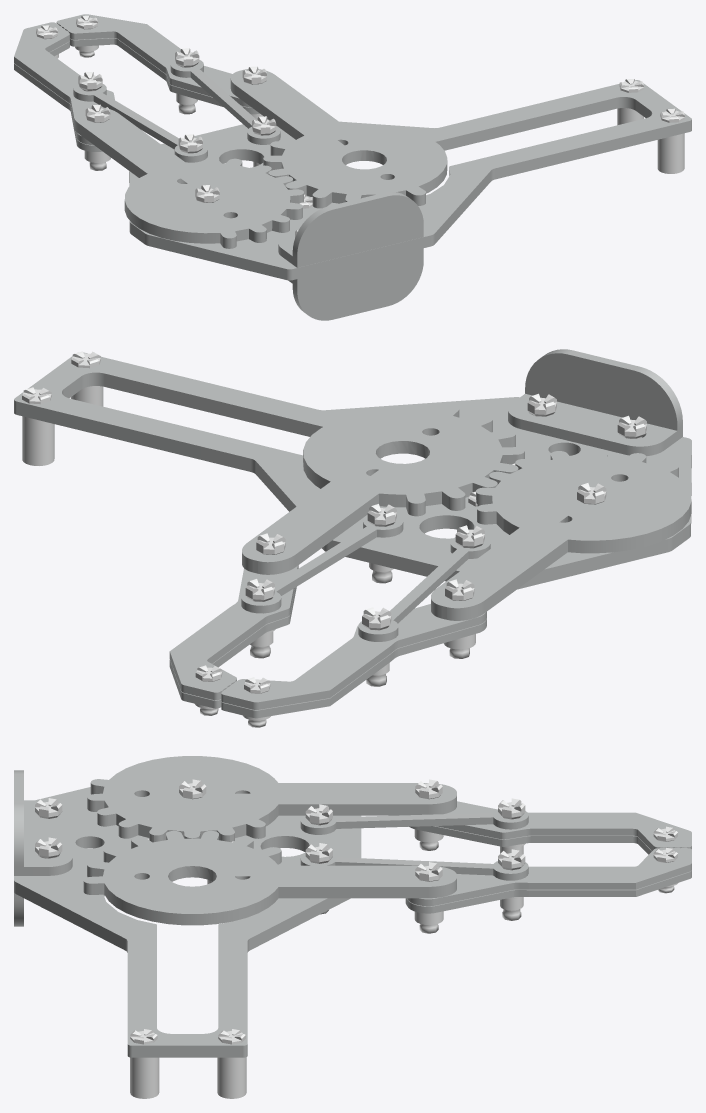
3 views of the same model, one above another, from view 1: azimuth 30°, elevation 25°; view 2: azimuth 150°, elevation 25°; view 3: azimuth 270°, elevation 25° (orthographic). The views are drawn at different scales.
Parts seen in each view (by area): view 1: pCube79, polySurface57, polySurface31, pCube96, pCube99, polySurface59, polySurface63, pPipe5, pPipe4, polySurface62, pPipe23, polySurface64 (+2 smaller); view 2: pCube79, polySurface31, polySurface57, pCube96, polySurface63, polySurface59, pPipe4, pPipe5, polySurface64, pPipe24, polySurface62, pCylinder34 (+3 smaller); view 3: pCube79, polySurface31, polySurface57, polySurface59, polySurface63, pCube96, pPipe5, polySurface62, pPipe4, polySurface64, pPipe23, pPipe24 (+3 smaller).
Part boxes in pixels (left/top/right/bottom): pCube79: left=129, top=80, right=691, bottom=280; polySurface57: left=74, top=107, right=303, bottom=248; polySurface31: left=230, top=69, right=447, bottom=208; pCube96: left=278, top=192, right=423, bottom=267; pCube99: left=288, top=248, right=423, bottom=320; polySurface59: left=56, top=14, right=250, bottom=107; polySurface63: left=14, top=22, right=114, bottom=145; pPipe5: left=73, top=83, right=207, bottom=162; pPipe4: left=170, top=60, right=280, bottom=144; polySurface62: left=70, top=38, right=259, bottom=114; pPipe23: left=657, top=133, right=684, bottom=173; polySurface64: left=14, top=41, right=102, bottom=151; pCube79: left=14, top=352, right=691, bottom=589; polySurface31: left=242, top=405, right=524, bottom=574; polySurface57: left=431, top=449, right=691, bottom=620; pCube96: left=508, top=349, right=682, bottom=456; polySurface63: left=221, top=604, right=486, bottom=709; polySurface59: left=169, top=565, right=298, bottom=700; pPipe4: left=241, top=515, right=403, bottom=613; pPipe5: left=358, top=537, right=490, bottom=641; polySurface64: left=221, top=618, right=486, bottom=718; pPipe24: left=22, top=416, right=54, bottom=465; polySurface62: left=169, top=587, right=296, bottom=708; pCylinder34: left=245, top=579, right=274, bottom=658; pCube79: left=14, top=787, right=361, bottom=1057; polySurface31: left=83, top=831, right=456, bottom=925; polySurface57: left=87, top=756, right=456, bottom=842; polySurface59: left=407, top=848, right=691, bottom=906; polySurface63: left=436, top=801, right=691, bottom=850; pCube96: left=14, top=770, right=72, bottom=875; pPipe5: left=300, top=810, right=528, bottom=834; polySurface62: left=405, top=870, right=691, bottom=913; pPipe4: left=300, top=853, right=528, bottom=880; polySurface64: left=409, top=826, right=651, bottom=854; pPipe23: left=130, top=1057, right=159, bottom=1098; pPipe24: left=217, top=1057, right=246, bottom=1098.
Bounding box in the file's own units: 9.17 × 9.46 × 1.83.
Materials: 2 (2 with a texture image).
